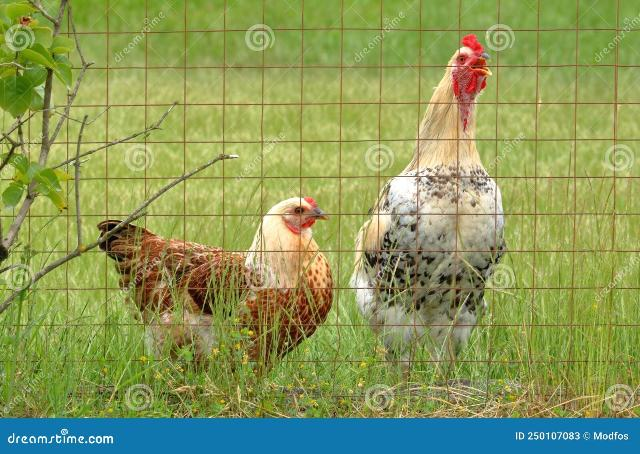Chicken: (350, 32, 506, 379), (99, 197, 334, 371)
